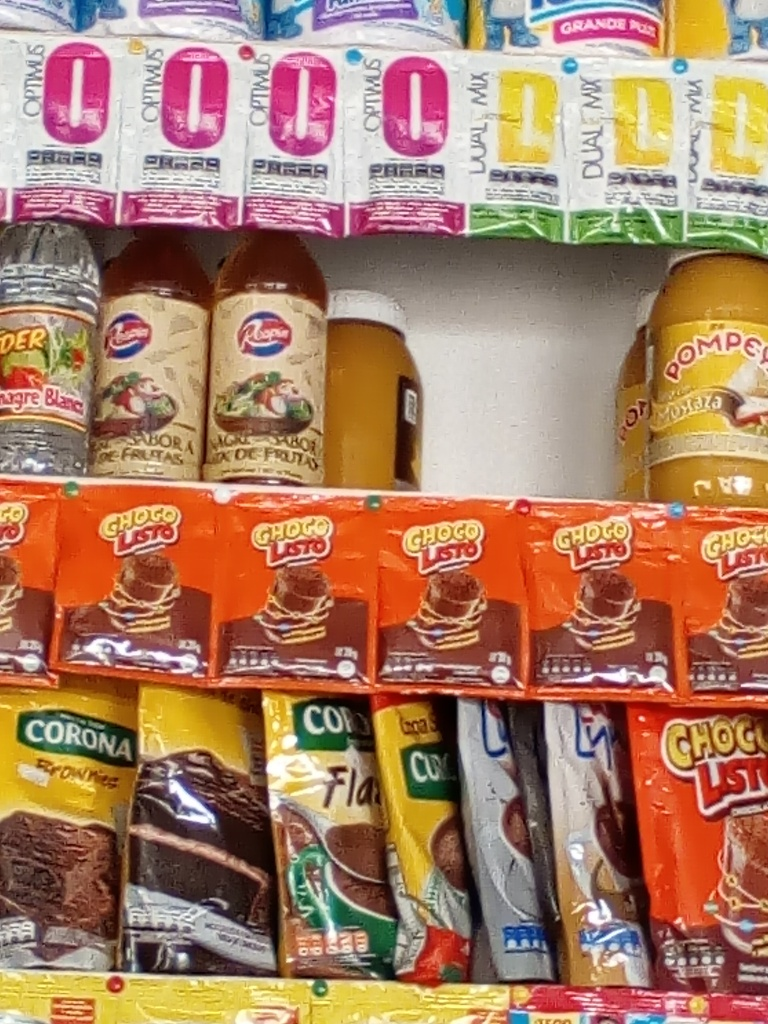COL0170103SOB02000: (51, 477, 213, 685)
